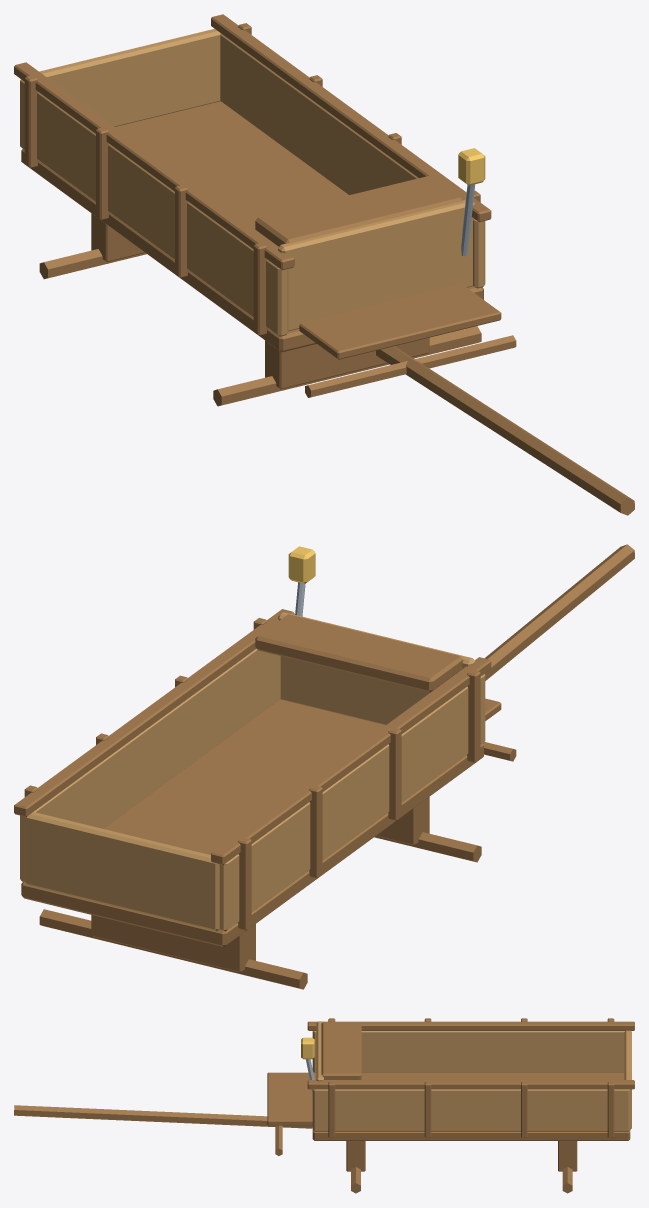
The model's file is prop_wagon_merchant.glb.
The picture shows the model from 3 angles, top to bottom: view 1: azimuth 30°, elevation 25°; view 2: azimuth 150°, elevation 25°; view 3: azimuth 270°, elevation 25°; orthographic projection. The views are drawn at different scales.
Parts seen in each view (by area): view 1: prop_wagon_merchant; view 2: prop_wagon_merchant; view 3: prop_wagon_merchant.
Boxes of the visible parts, x1,y1,x2,y2 form: prop_wagon_merchant: [14, 14, 634, 515]; prop_wagon_merchant: [14, 544, 634, 989]; prop_wagon_merchant: [14, 1018, 634, 1193].
Bounding box in the file's own units: 1.9 × 1.61 × 6.45.
